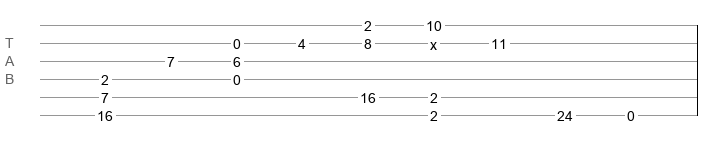0: (233, 36, 241, 46), (233, 72, 241, 82), (627, 108, 635, 118)
10: (426, 18, 442, 28)
11: (491, 36, 507, 46)
16: (97, 108, 113, 118), (360, 90, 376, 100)
2: (101, 72, 109, 82), (364, 18, 372, 28), (430, 90, 438, 100), (430, 108, 438, 118)
24: (557, 108, 573, 118)
4: (298, 36, 306, 46)
6: (233, 54, 241, 64)
7: (101, 90, 109, 100), (167, 54, 175, 64)
8: (364, 36, 372, 46)
x: (430, 37, 437, 45)
